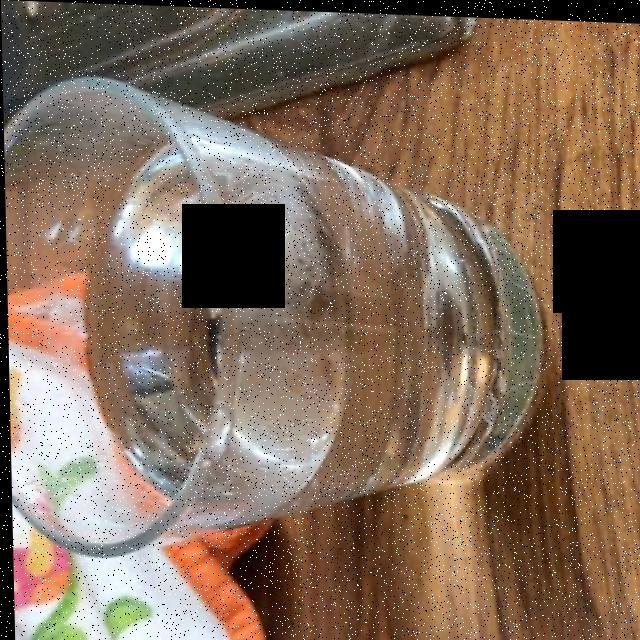water: (34, 132, 509, 531)
